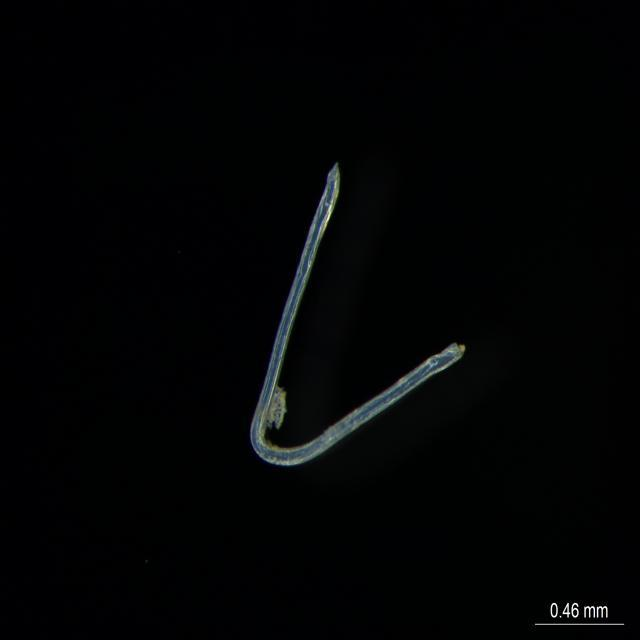fibers: (147, 162, 469, 485)
